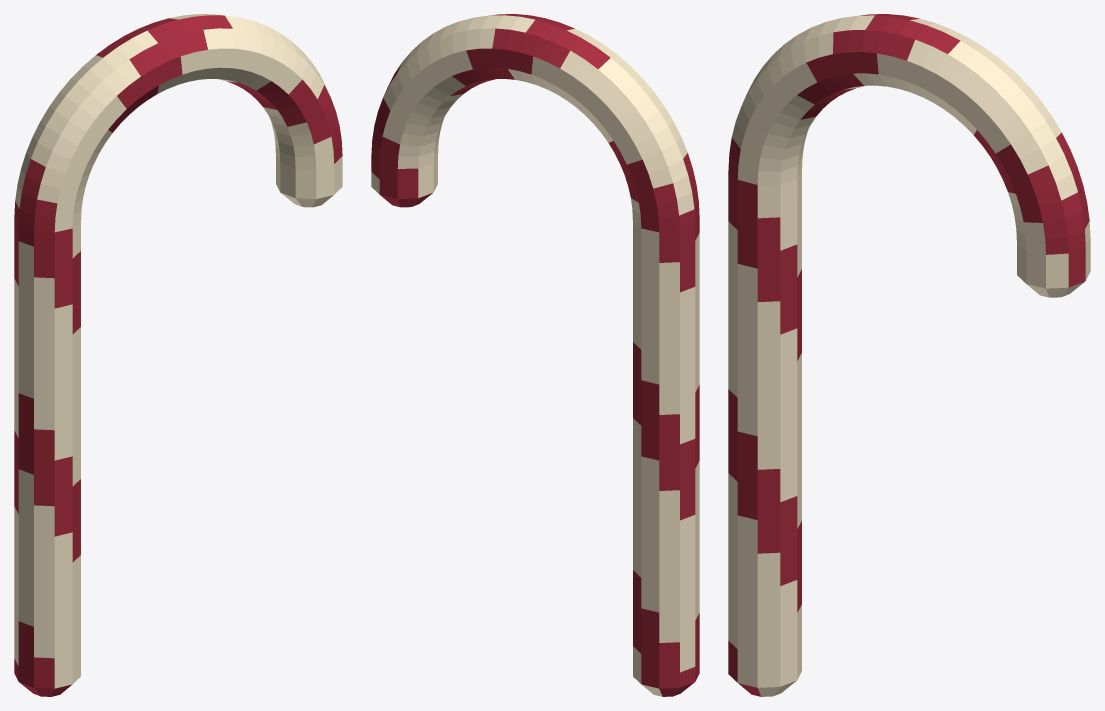
File: candy_cane.glb
3 renders of one model, left to right at view 1: azimuth 30°, elevation 25°; view 2: azimuth 150°, elevation 25°; view 3: azimuth 330°, elevation 25°, orthographic. The views are drawn at different scales.
Parts seen in each view (by area): view 1: candy_cane; view 2: candy_cane; view 3: candy_cane.
Part boxes in pixels (box(x1,y1,x2,y2)): candy_cane: box(14, 14, 342, 696); candy_cane: box(371, 14, 699, 696); candy_cane: box(728, 14, 1090, 696).
Bounding box in the file's own units: 0.132 × 0.252 × 0.0228.
